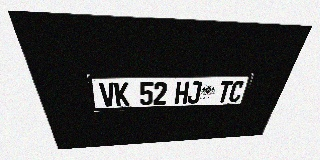2: (153, 81, 167, 105)
5: (140, 81, 153, 105)
C: (228, 80, 245, 102)
H: (174, 81, 189, 104)
J: (187, 81, 202, 104)
K: (114, 82, 130, 106)
T: (217, 80, 234, 103)
V: (99, 82, 116, 107)
